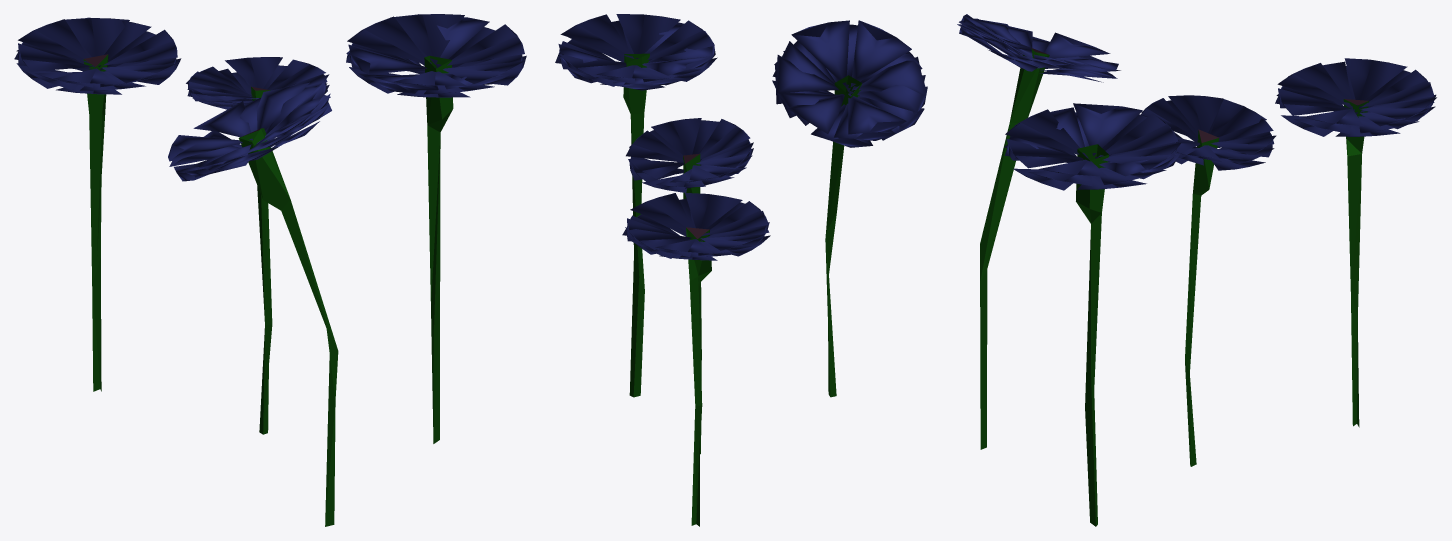
File: SM_Cornflower_001_LOD3.fbx
3 views of the same model, side by side, from view 1: azimuth 30°, elevation 25°; view 2: azimuth 150°, elevation 25°; view 3: azimuth 270°, elevation 25° (orthographic). The views are drawn at different scales.
Parts seen in each view (by area): view 1: Circle; view 2: Circle; view 3: Circle.
Part boxes in pixels (x1,y1,x2,y2): Circle: (14, 14, 526, 526); Circle: (555, 14, 927, 526); Circle: (957, 14, 1436, 526).
Size of the model in its own units: 27.06 by 30.03 by 31.62.
